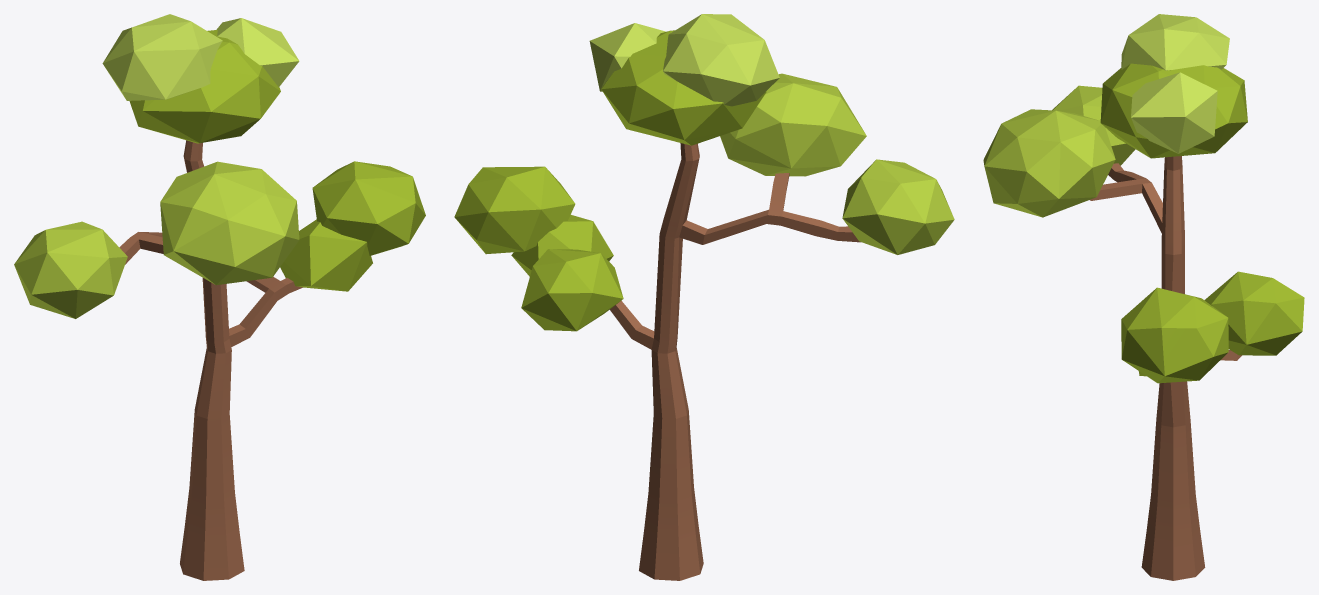
File: tree_3.fbx
3 views of the same model, side by side, from view 1: azimuth 30°, elevation 25°; view 2: azimuth 150°, elevation 25°; view 3: azimuth 270°, elevation 25° (orthographic). The views are drawn at different scales.
Parts seen in each view (by area): view 1: tree_3; view 2: tree_3; view 3: tree_3.
Boxes of the visible parts, x1,y1,x2,y2 form: tree_3: (14,14,425,580); tree_3: (454,14,954,580); tree_3: (983,14,1304,580).
Bounding box in the file's own units: 559 × 673 × 372.
